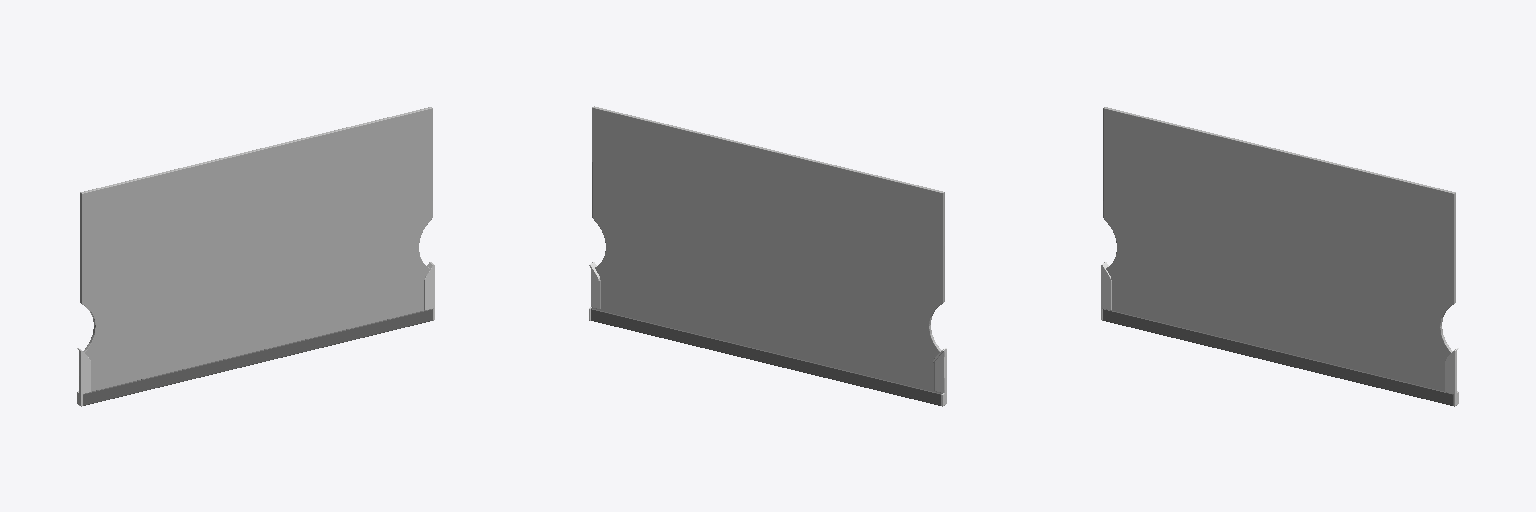
The picture shows the model from 3 angles: view 1: azimuth 30°, elevation 25°; view 2: azimuth 150°, elevation 25°; view 3: azimuth 330°, elevation 25°; orthographic projection.
Visible parts, largest first — view 1: SM_Fridge_Shelf; view 2: SM_Fridge_Shelf; view 3: SM_Fridge_Shelf.
Boxes of the visible parts, x1,y1,x2,y2 form: SM_Fridge_Shelf: [77, 107, 434, 406]; SM_Fridge_Shelf: [589, 106, 946, 406]; SM_Fridge_Shelf: [1101, 107, 1458, 406].
Size of the model in its own units: 0.4684 by 0.2682 by 0.01.
Materials: 3 (2 with a texture image).